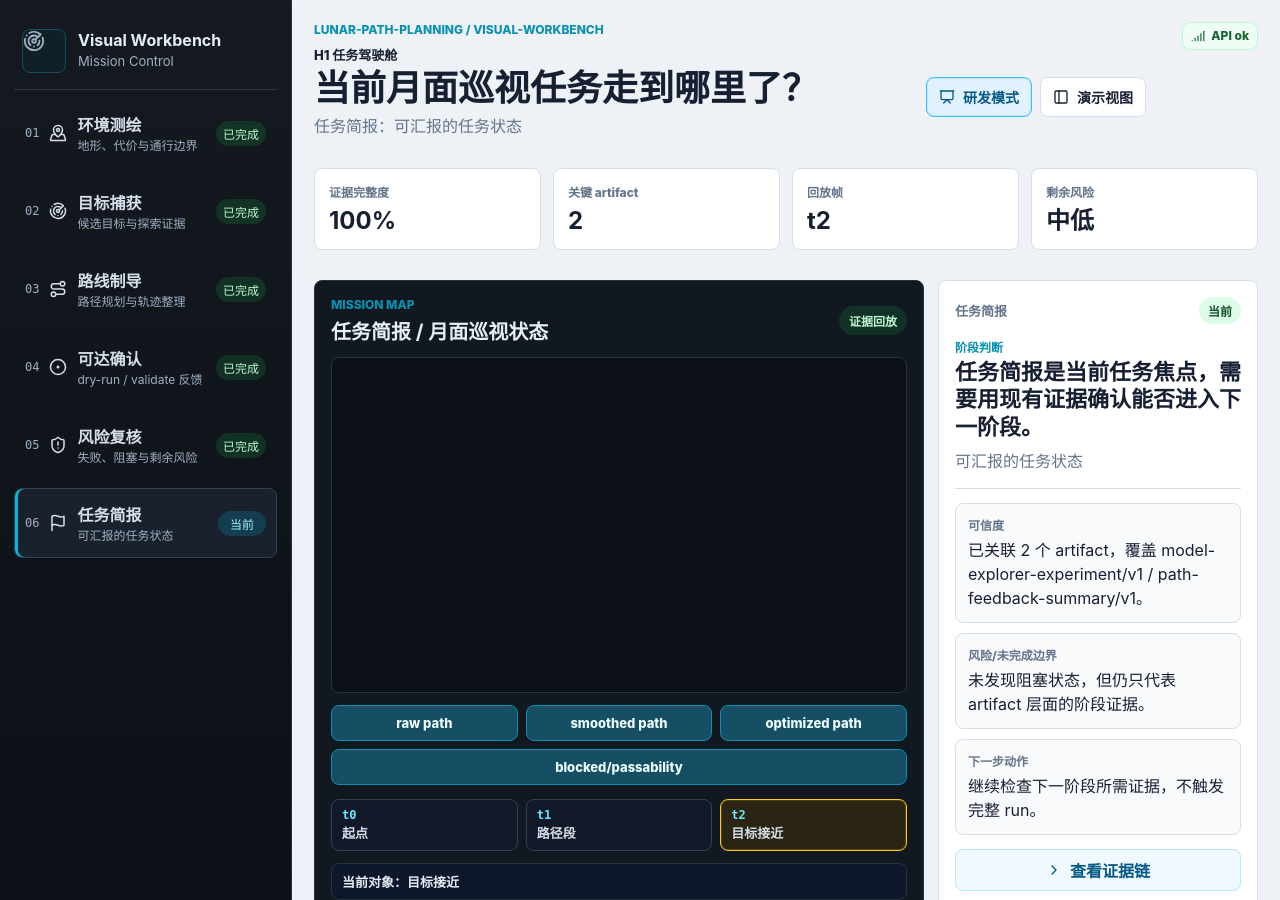
Scenario: App › shows mission judgment first and expands raw evidence on demand
The width and height of the screenshot is (1280, 900).
Click the button "03 路线制导 路径规划与轨迹整理 已完成": point(109, 281) [14,254,277,324]
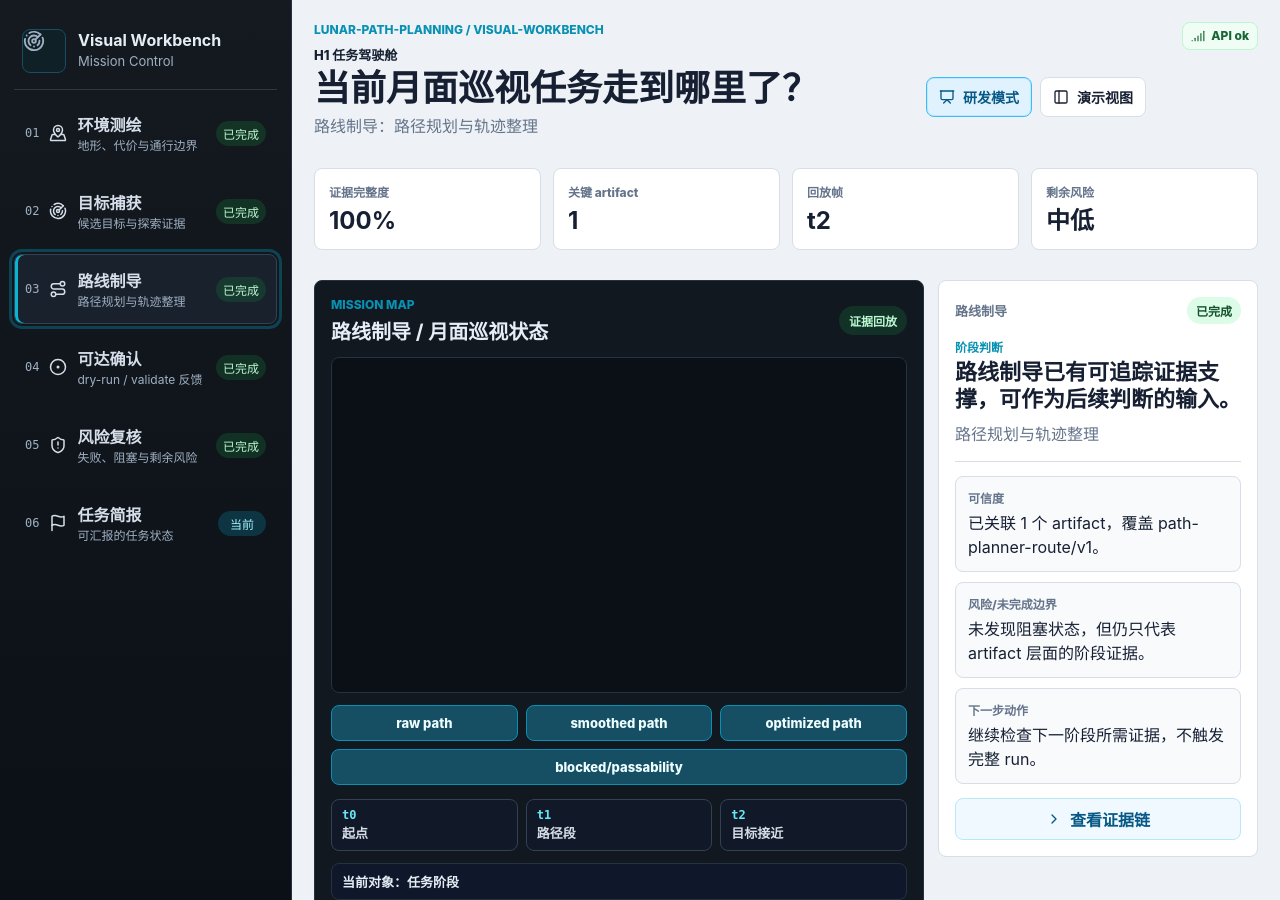
Expected: the text "阶段判断" is shown, [955,340,1003,355]
Expected: the text "可信度" is shown, [968,491,1004,506]
Click the button "查看证据链": point(1098, 819) [955,798,1241,840]
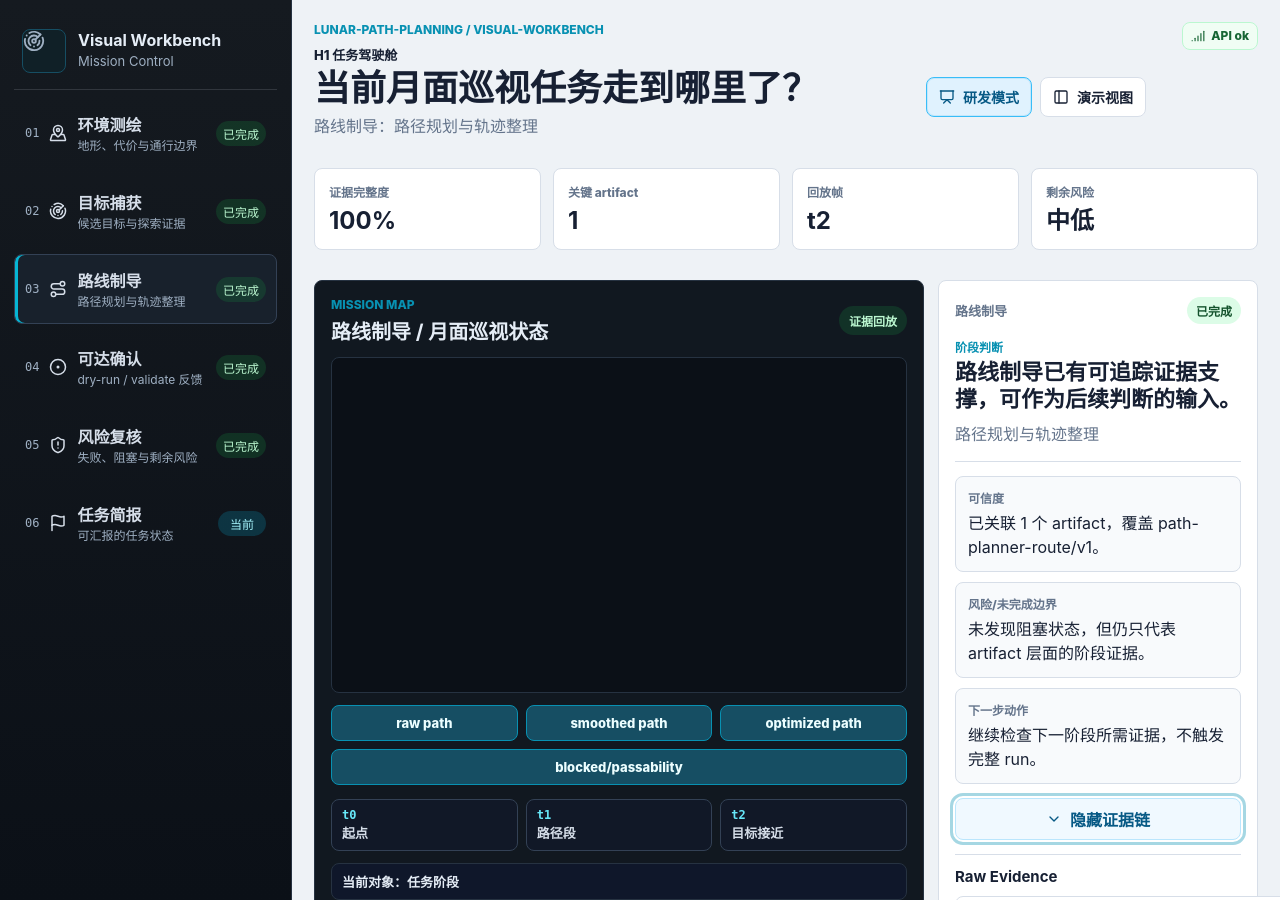
Result: the heading "Raw Evidence" is shown at [955,867,1058,886]
Result: the button "隐藏证据链" is expanded
Click the button "隐藏证据链": point(1098, 819) [955,798,1241,840]
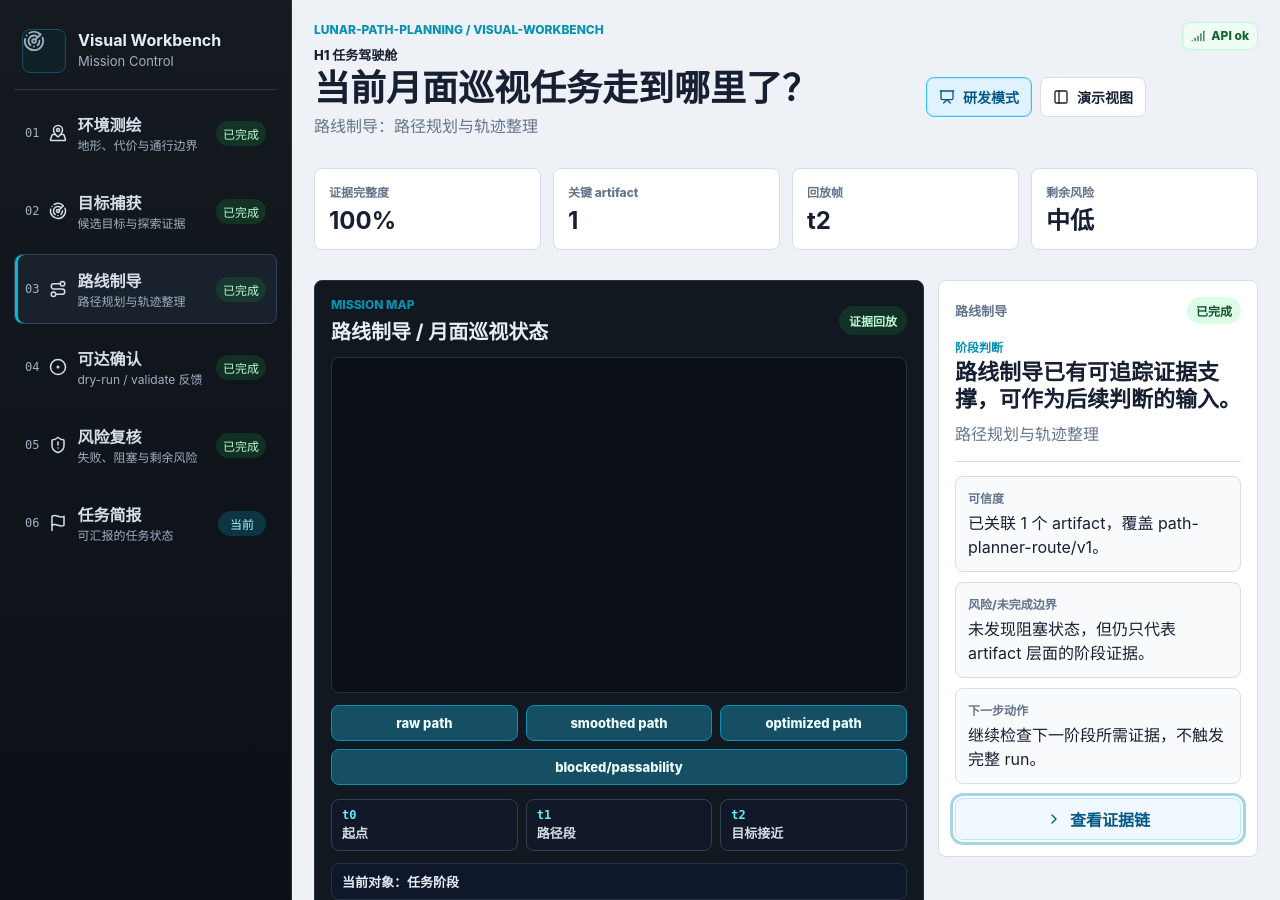
Result: the heading "Raw Evidence" is gone
Result: the button "查看证据链" is collapsed at [955,798,1241,840]
